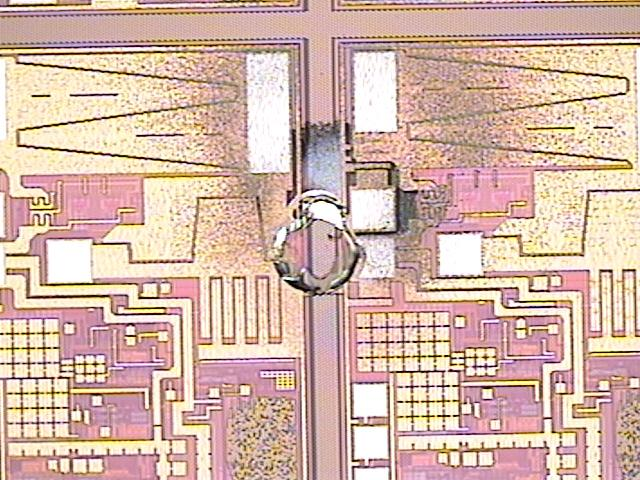BLOCK ETCH: (57, 38, 640, 373)
